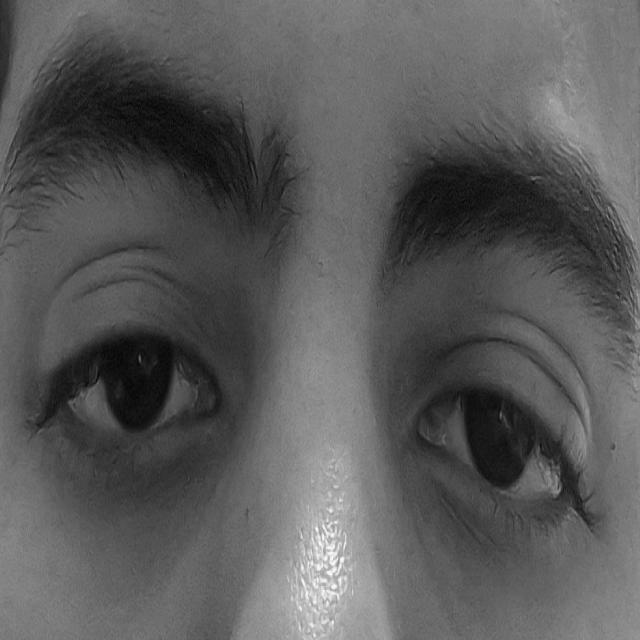real: (24, 176, 629, 578)
